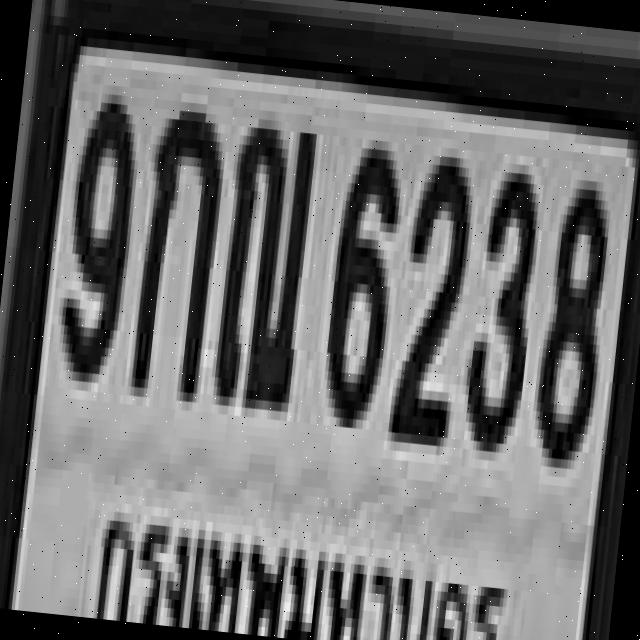10GorGai: (128, 99, 226, 393)
2: (384, 144, 474, 437)
28NorNen: (209, 108, 315, 402)
3: (457, 160, 542, 444)
6: (316, 137, 402, 421)
8: (528, 168, 614, 461)
9: (53, 82, 139, 375)
Bangkok: (86, 501, 515, 640)
